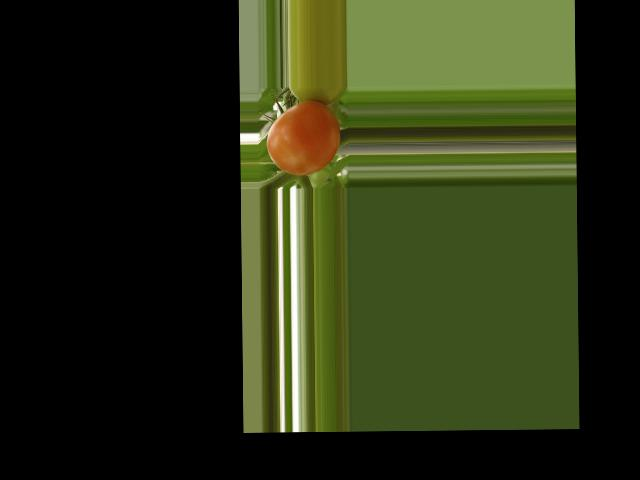tomato: (266, 100, 341, 175)
